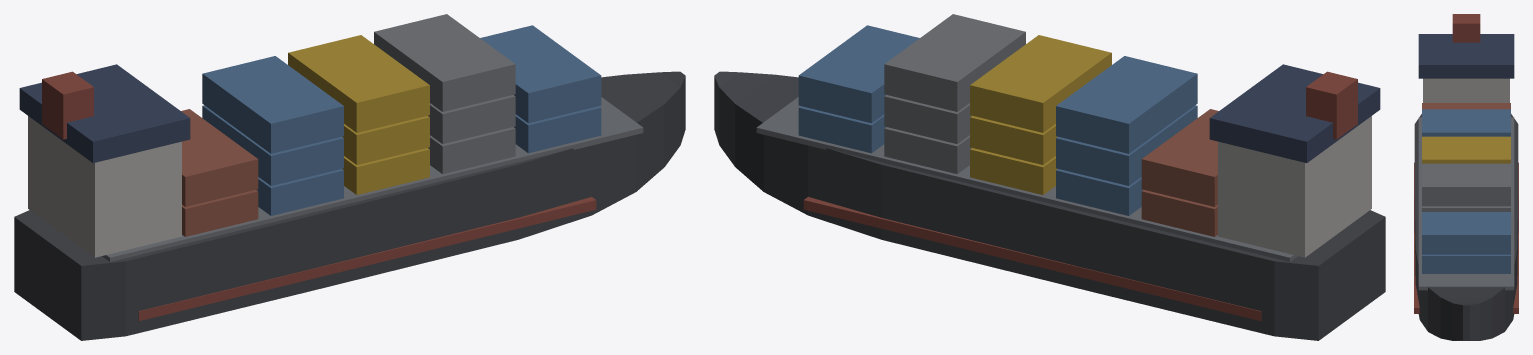
Rendered from port_ship_boxb_lvl1.glb.
3 renders of one model, left to right at view 1: azimuth 30°, elevation 25°; view 2: azimuth 150°, elevation 25°; view 3: azimuth 270°, elevation 25°, orthographic. The views are drawn at different scales.
Visible parts, largest first — view 1: port_ship_boxb; view 2: port_ship_boxb; view 3: port_ship_boxb.
Part boxes in pixels (x1,y1,x2,y2): port_ship_boxb: [14, 14, 685, 340]; port_ship_boxb: [714, 14, 1385, 340]; port_ship_boxb: [1414, 14, 1518, 340].
Bounding box in the file's own units: 0.3397 × 0.1167 × 0.0748.
